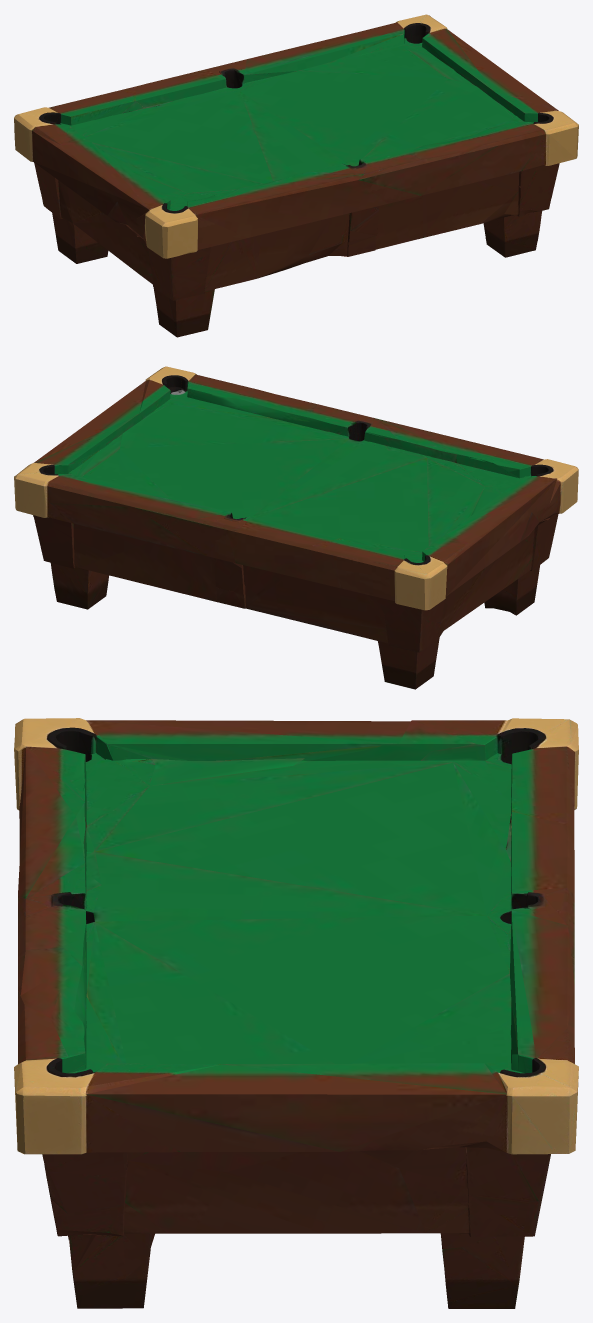
Rendered from pool.glb.
The picture shows the model from 3 angles, top to bottom: view 1: azimuth 30°, elevation 25°; view 2: azimuth 150°, elevation 25°; view 3: azimuth 270°, elevation 25°; orthographic projection. The views are drawn at different scales.
Bounding box in the file's own units: 1.9 × 0.5779 × 1.21.
1 material, 1 textured.
